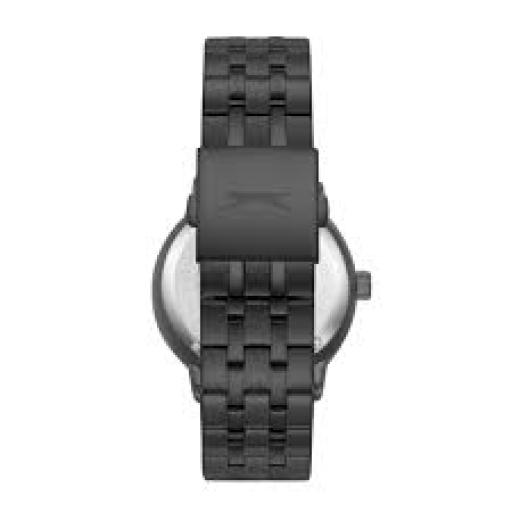KolSaati: (129, 21, 388, 505)
